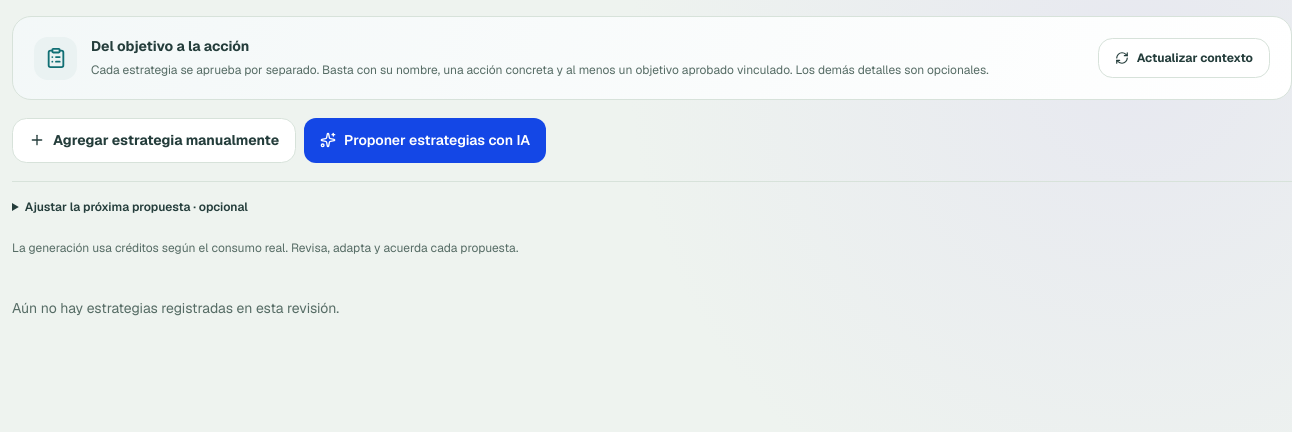
Test case: explains incompatible AI output instead of silently dropping it: missing collection
Click the button "Proponer estrategias con IA". click: (425, 140)
box: 304,118 -> 546,163
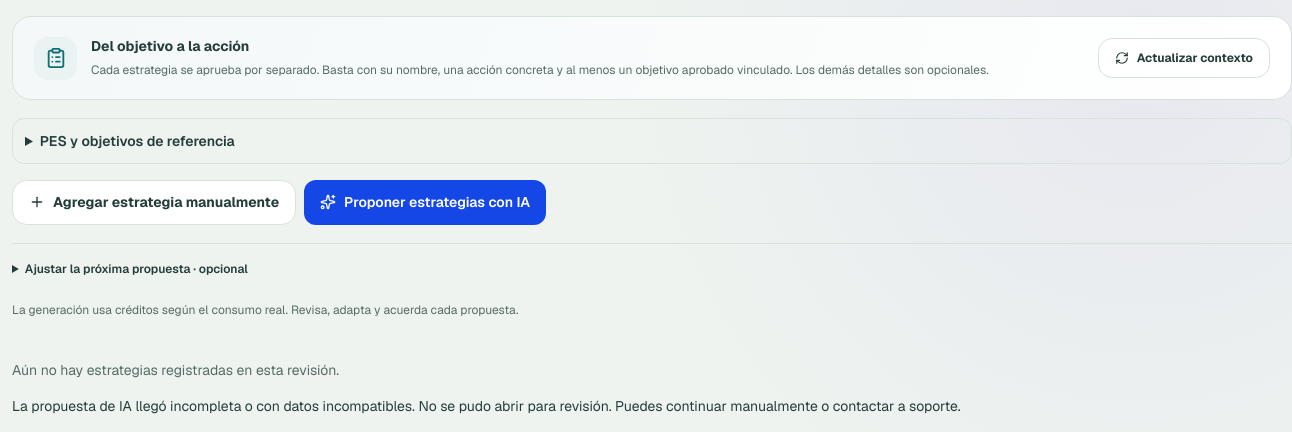
Expected: the button "Agregar estrategia manualmente" is enabled, 12,180 -> 296,225
Now the text "La propuesta de IA llegó incompleta o con datos incompatibles" is shown, box 12,397 -> 961,415
